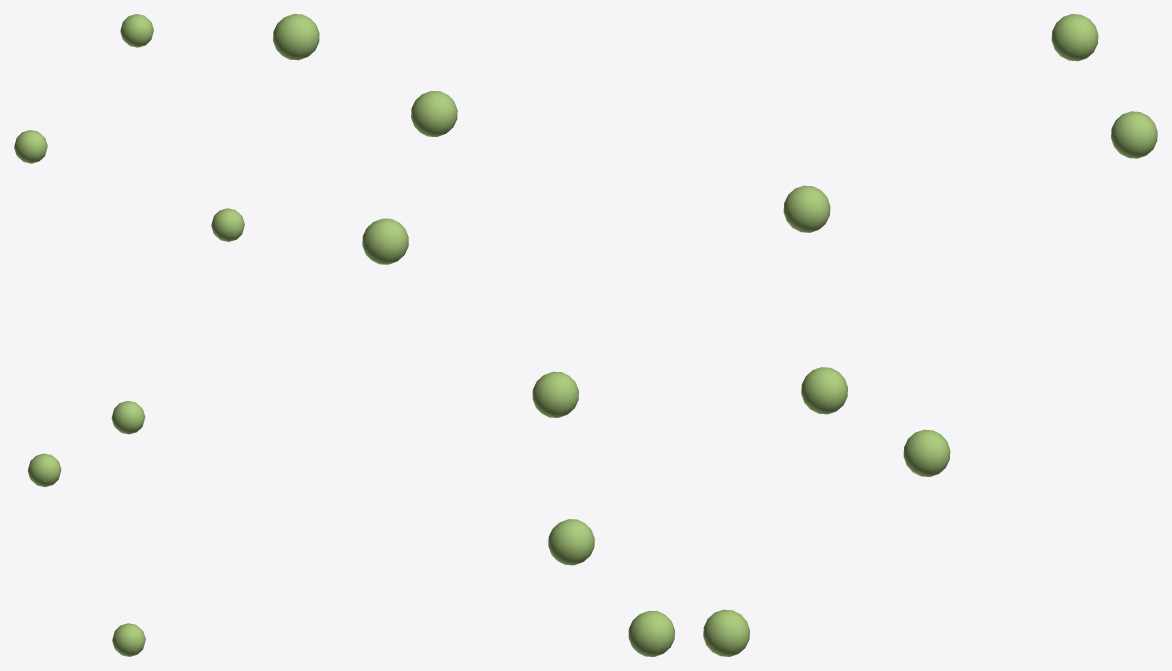
File: anterior-axillary-nodes-r.glb
3 renders of one model, left to right at view 1: azimuth 30°, elevation 25°; view 2: azimuth 150°, elevation 25°; view 3: azimuth 270°, elevation 25°, orthographic. The views are drawn at different scales.
Parts seen in each view (by area): view 1: Anterior axillary nodes.r; view 2: Anterior axillary nodes.r; view 3: Anterior axillary nodes.r.
Boxes of the visible parts, x1,y1,x2,y2 form: Anterior axillary nodes.r: (14, 14, 244, 656); Anterior axillary nodes.r: (273, 14, 674, 656); Anterior axillary nodes.r: (703, 14, 1157, 656).
Bounding box in the file's own units: 0.0155 × 0.0438 × 0.0248.
